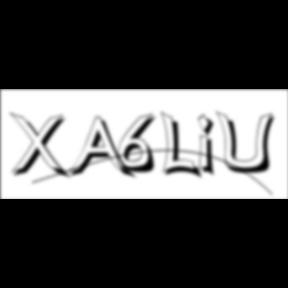6: (118, 112, 162, 176)
A: (68, 116, 138, 182)
L: (161, 110, 205, 182)
U: (216, 110, 280, 176)
X: (9, 112, 73, 182)
i: (198, 112, 222, 180)
